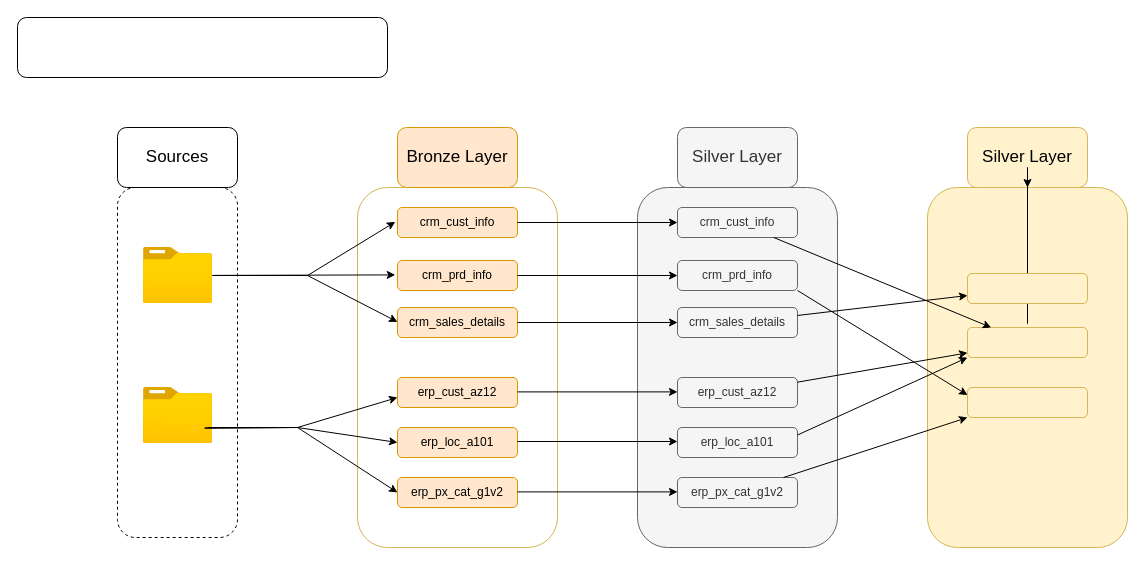
This 1145x565 diagram has some shape labels left out. The centre of each missing label's shape, as x and y in pixels:
CRM: pixel 177 275
Data Flow DIagram: pixel 202 47
dim_customers: pixel 1027 342
dim_products: pixel 1027 402
ERP: pixel 177 415
fact_sales: pixel 1027 288
